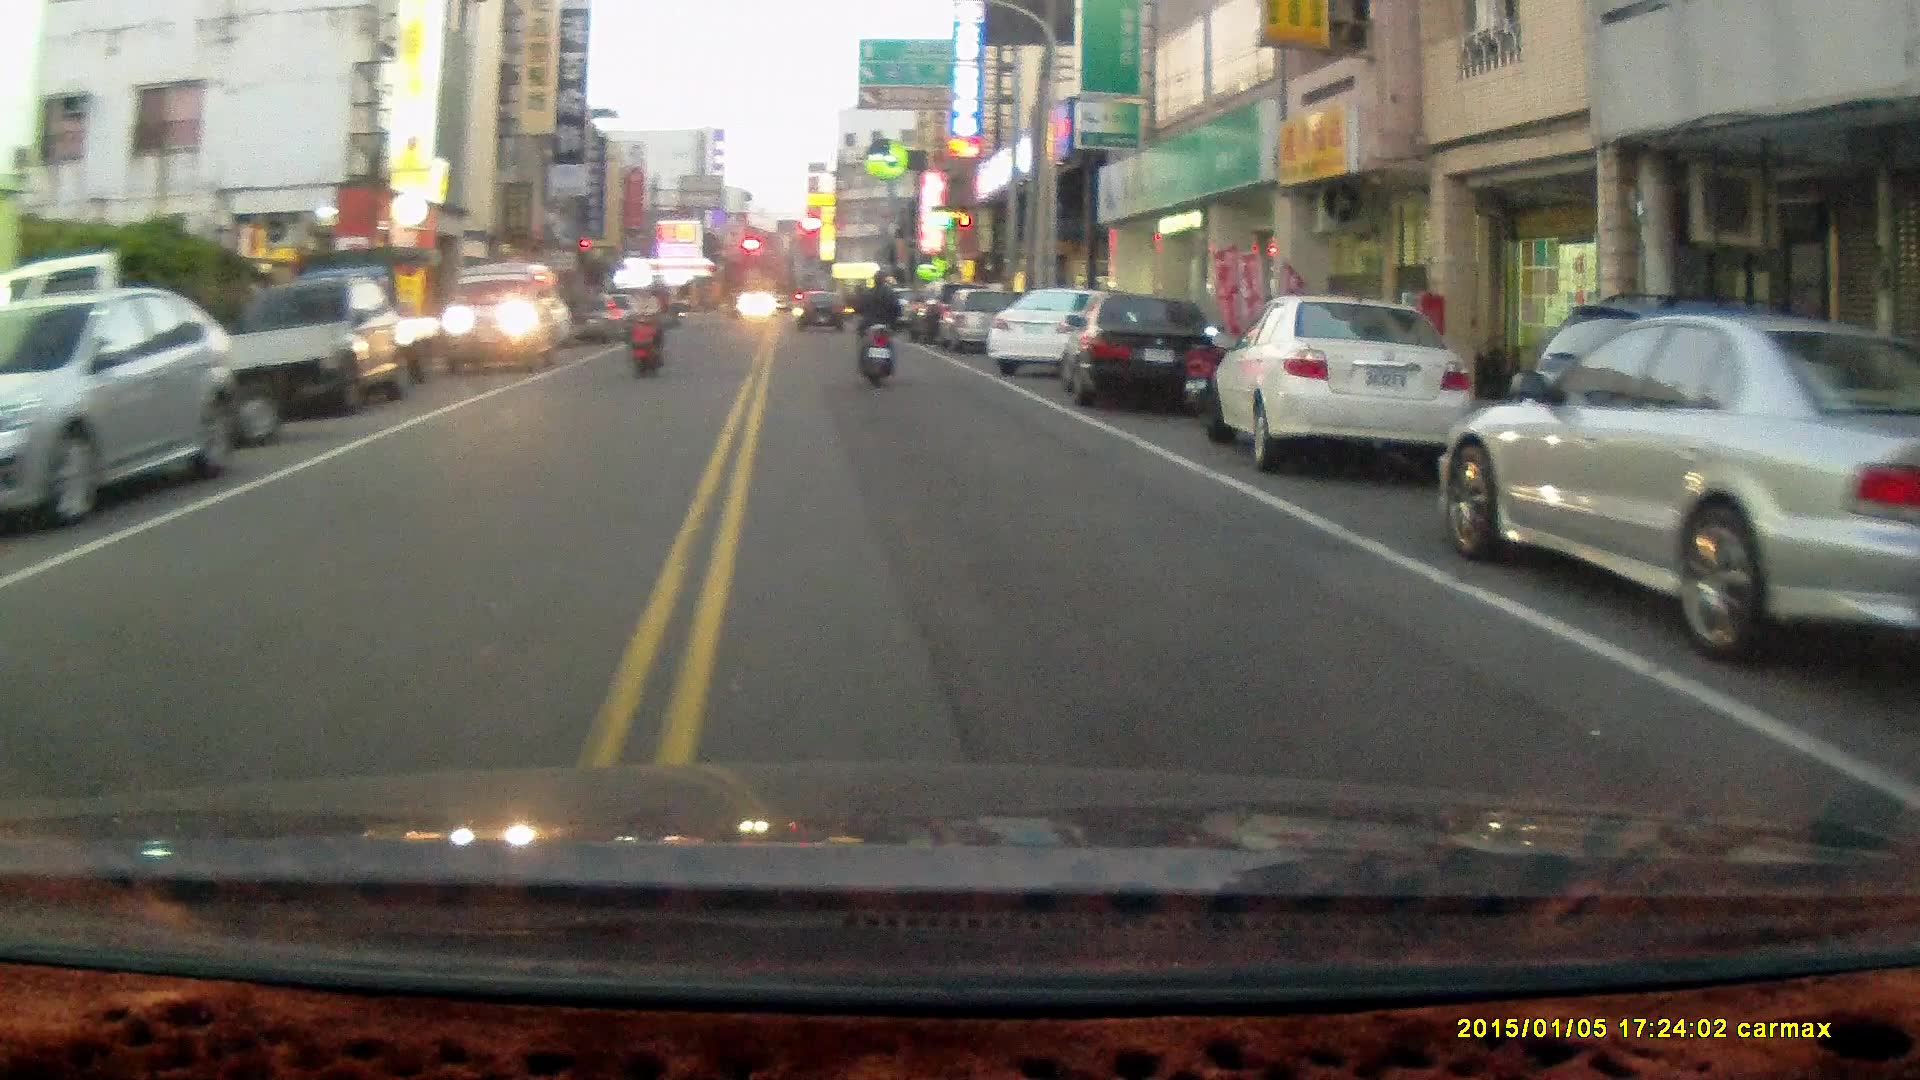rider: (852, 269, 900, 389), (629, 278, 669, 382)
vehicle: (1436, 309, 1920, 659), (1, 289, 230, 534), (1207, 295, 1485, 470), (231, 273, 398, 414), (1066, 291, 1227, 411), (983, 286, 1141, 380), (447, 259, 568, 378)
